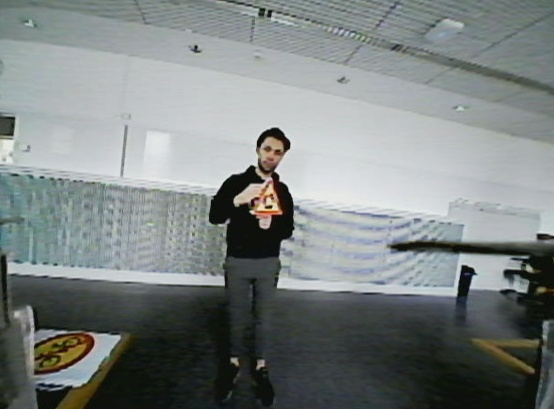roundabout_warning: (255, 179, 285, 218)
